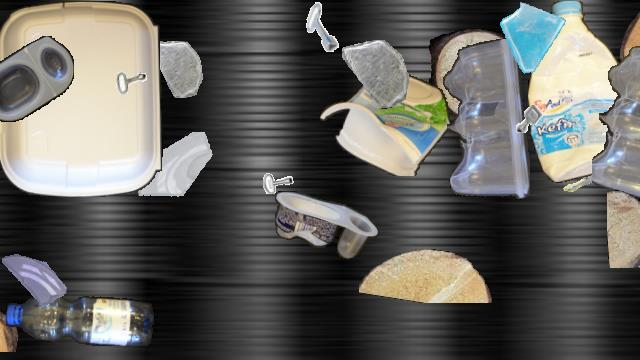glass: (136, 132, 218, 214), (496, 1, 570, 75), (342, 40, 410, 108), (2, 248, 66, 312), (148, 41, 204, 97)
metal: (97, 41, 157, 101), (546, 152, 604, 210), (298, 1, 350, 53), (253, 149, 297, 193), (508, 98, 550, 140)
plastic: (0, 1, 162, 197), (528, 1, 630, 183), (440, 39, 530, 203), (320, 70, 450, 176), (6, 292, 154, 346), (592, 41, 640, 201), (275, 191, 377, 259), (0, 36, 74, 122)
wood: (426, 29, 522, 119), (359, 249, 495, 303), (607, 190, 640, 268), (620, 1, 640, 109), (0, 307, 19, 351)
